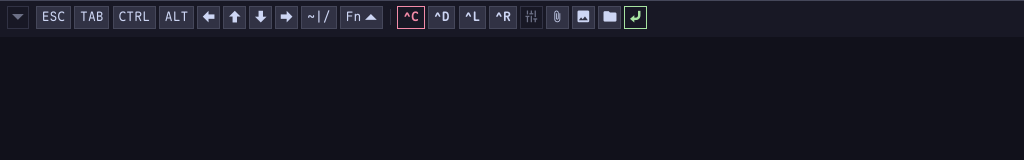
it: Touch key bar layout › gives every cap one height (compact: false)
Click the button named "function keys" at (362, 17), box [340,6,383,29]
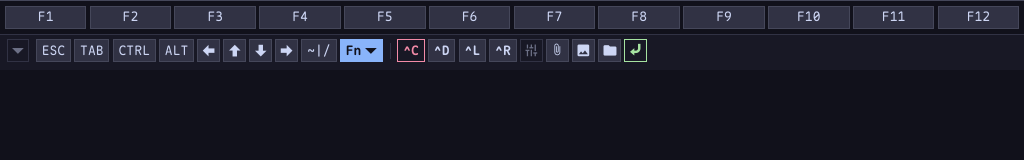
Check: the button with test id "agent-key-customize" is shown, box [520,39,543,62]
Check: the 7th button named "F7" is shown, box [514,6,595,29]
